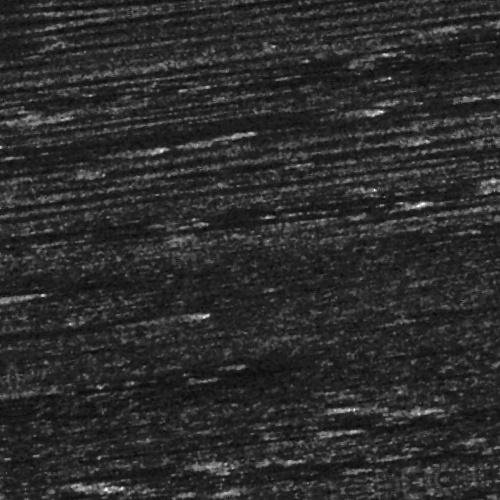object: (350, 215, 465, 226), (268, 434, 373, 445), (328, 119, 411, 128), (442, 207, 500, 216), (300, 412, 363, 419), (154, 138, 185, 141)
shadow: (345, 69, 500, 90), (141, 207, 489, 216), (142, 215, 407, 226), (407, 61, 500, 90), (101, 119, 370, 128), (132, 434, 320, 445), (426, 1, 500, 16), (240, 412, 332, 419), (77, 138, 169, 141), (485, 123, 500, 128)
